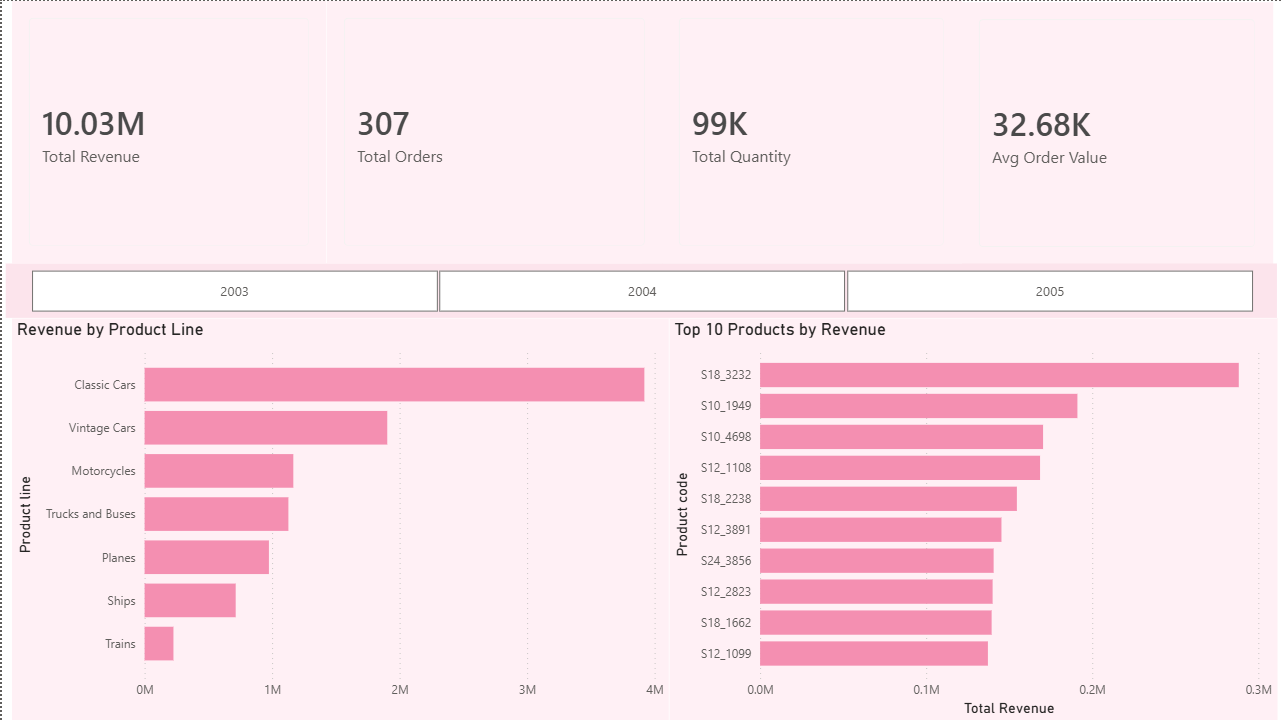

The dashboard page shown, as its layout file describes it:
{"tool":"powerbi","page":{"name":"Products","canvas":[1280,720],"ordinal":1},"visuals":[{"type":"cardVisual","fields":{"Data":["public customers.Total Revenue"]},"box":[10,0,314.7,262.5],"z":0},{"type":"cardVisual","fields":{"Data":["public customers.Total Orders"]},"box":[324.7,0,335.9,262.5],"z":1000},{"type":"cardVisual","fields":{"Data":["public customers.Total Quantity"]},"box":[660.5,0,299.8,262.5],"z":2000},{"type":"cardVisual","fields":{"Data":["public customers.Avg Order Value"]},"box":[960.3,1.2,311,262.5],"z":3000},{"type":"slicer","fields":{"Values":["public orders.year_id"]},"box":[3.7,262.5,1271.3,54.7],"z":4000},{"type":"clusteredBarChart","title":"Revenue by Product Line","fields":{"Category":["public products.product_line"],"Y":["public customers.Total Revenue"]},"box":[10,317.2,656.8,403],"z":5000},{"type":"clusteredBarChart","title":"Top 10 Products by Revenue","fields":{"Category":["public products.product_code"],"Y":["public customers.Total Revenue"]},"box":[667,317,608,403],"z":6000}]}

Visuals, with their boxes in screenshot pixels (x1, y1, x2, y2), scaled from the page's 1280x720 canvas onto the 1282x720 screenshot:
cardVisual - public customers.Total Revenue: 10,0,325,262
cardVisual - public customers.Total Orders: 325,0,662,262
cardVisual - public customers.Total Quantity: 662,0,962,262
cardVisual - public customers.Avg Order Value: 962,1,1273,264
slicer - public orders.year_id: 4,262,1277,317
"Revenue by Product Line" clusteredBarChart: 10,317,668,719
"Top 10 Products by Revenue" clusteredBarChart: 668,317,1277,719
